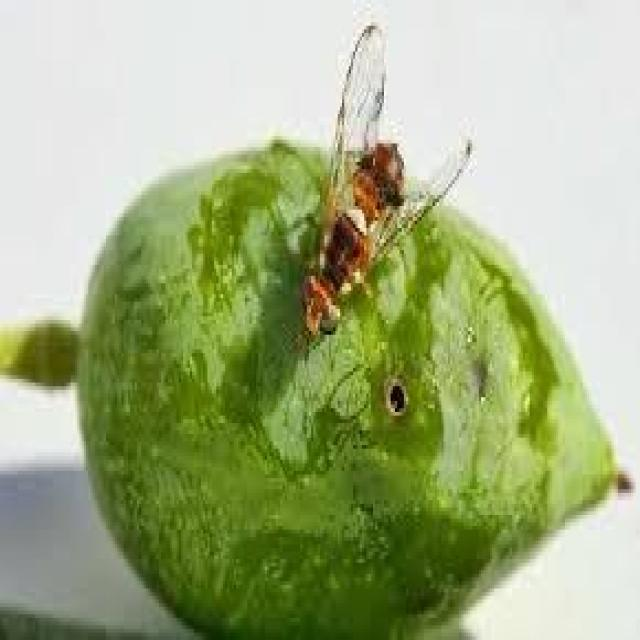Olive Fruit Fly: (18, 22, 631, 636)
